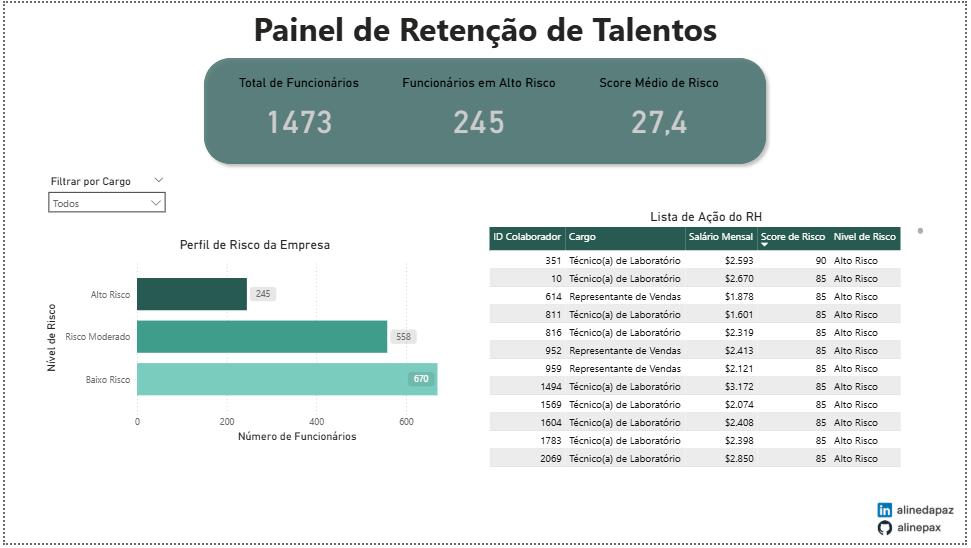

The dashboard page shown, as its layout file describes it:
{"tool":"powerbi","page":{"name":"Página 1","canvas":[1280,720],"ordinal":0},"visuals":[{"type":"textbox","box":[134.4,0,1011.2,80.6],"z":0},{"type":"clusteredBarChart","title":"Perfil de Risco da Empresa","fields":{"Category":["Base_de_Dados_RH_Automação - Resultados_Analisados.Nivel_De_Risco 2"],"Y":["Count(Base_de_Dados_RH_Automação - Resultados_Analisados.EmployeeNumber)"]},"box":[48,311.9,570.5,278.2],"z":0},{"type":"image","box":[1152,656,128,64],"z":2000},{"type":"shape","box":[256,64,768,160],"z":3500},{"type":"card","title":"Total de Funcionários","fields":{"Values":["Count(Base_de_Dados_RH_Automação - Resultados_Analisados.EmployeeNumber)"]},"box":[304,96,176,96],"z":4000},{"type":"card","title":"Funcionários em Alto Risco","fields":{"Values":["Count(Base_de_Dados_RH_Automação - Resultados_Analisados.EmployeeNumber)"]},"box":[512,96,240,96],"z":5000},{"type":"slicer","fields":{"Values":["Base_de_Dados_RH_Automação - Resultados_Analisados.Cargo_Traduzido"]},"box":[48,224,176,80],"z":6000},{"type":"card","title":"Score Médio de Risco","fields":{"Values":["Avg(Base_de_Dados_RH_Automação - Resultados_Analisados.Score_de_Risco)"]},"box":[784,96,176,96],"z":7000},{"type":"tableEx","title":"Lista de Ação do RH","fields":{"Values":["Sum(Base_de_Dados_RH_Automação - Resultados_Analisados.EmployeeNumber)","Base_de_Dados_RH_Automação - Resultados_Analisados.Cargo_Traduzido","Sum(Base_de_Dados_RH_Automação - Resultados_Analisados.MonthlyIncome)","Sum(Base_de_Dados_RH_Automação - Resultados_Analisados.Score_de_Risco)","Base_de_Dados_RH_Automação - Resultados_Analisados.Nivel de Risco"]},"box":[639.6,274.1,589.8,353.9],"z":8000}]}

Visuals, with their boxes in screenshot pixels (x1, y1, x2, y2), scaled from the page's 1280x720 canvas onto the 971x548 screenshot:
textbox: [102,0,869,61]
"Perfil de Risco da Empresa" clusteredBarChart: [36,237,469,449]
image: [874,499,970,547]
shape: [194,49,777,170]
"Total de Funcionários" card: [231,73,364,146]
"Funcionários em Alto Risco" card: [388,73,570,146]
slicer - Base_de_Dados_RH_Automação - Resultados_Analisados.Cargo_Traduzido: [36,170,170,231]
"Score Médio de Risco" card: [595,73,728,146]
"Lista de Ação do RH" tableEx: [485,209,933,478]
